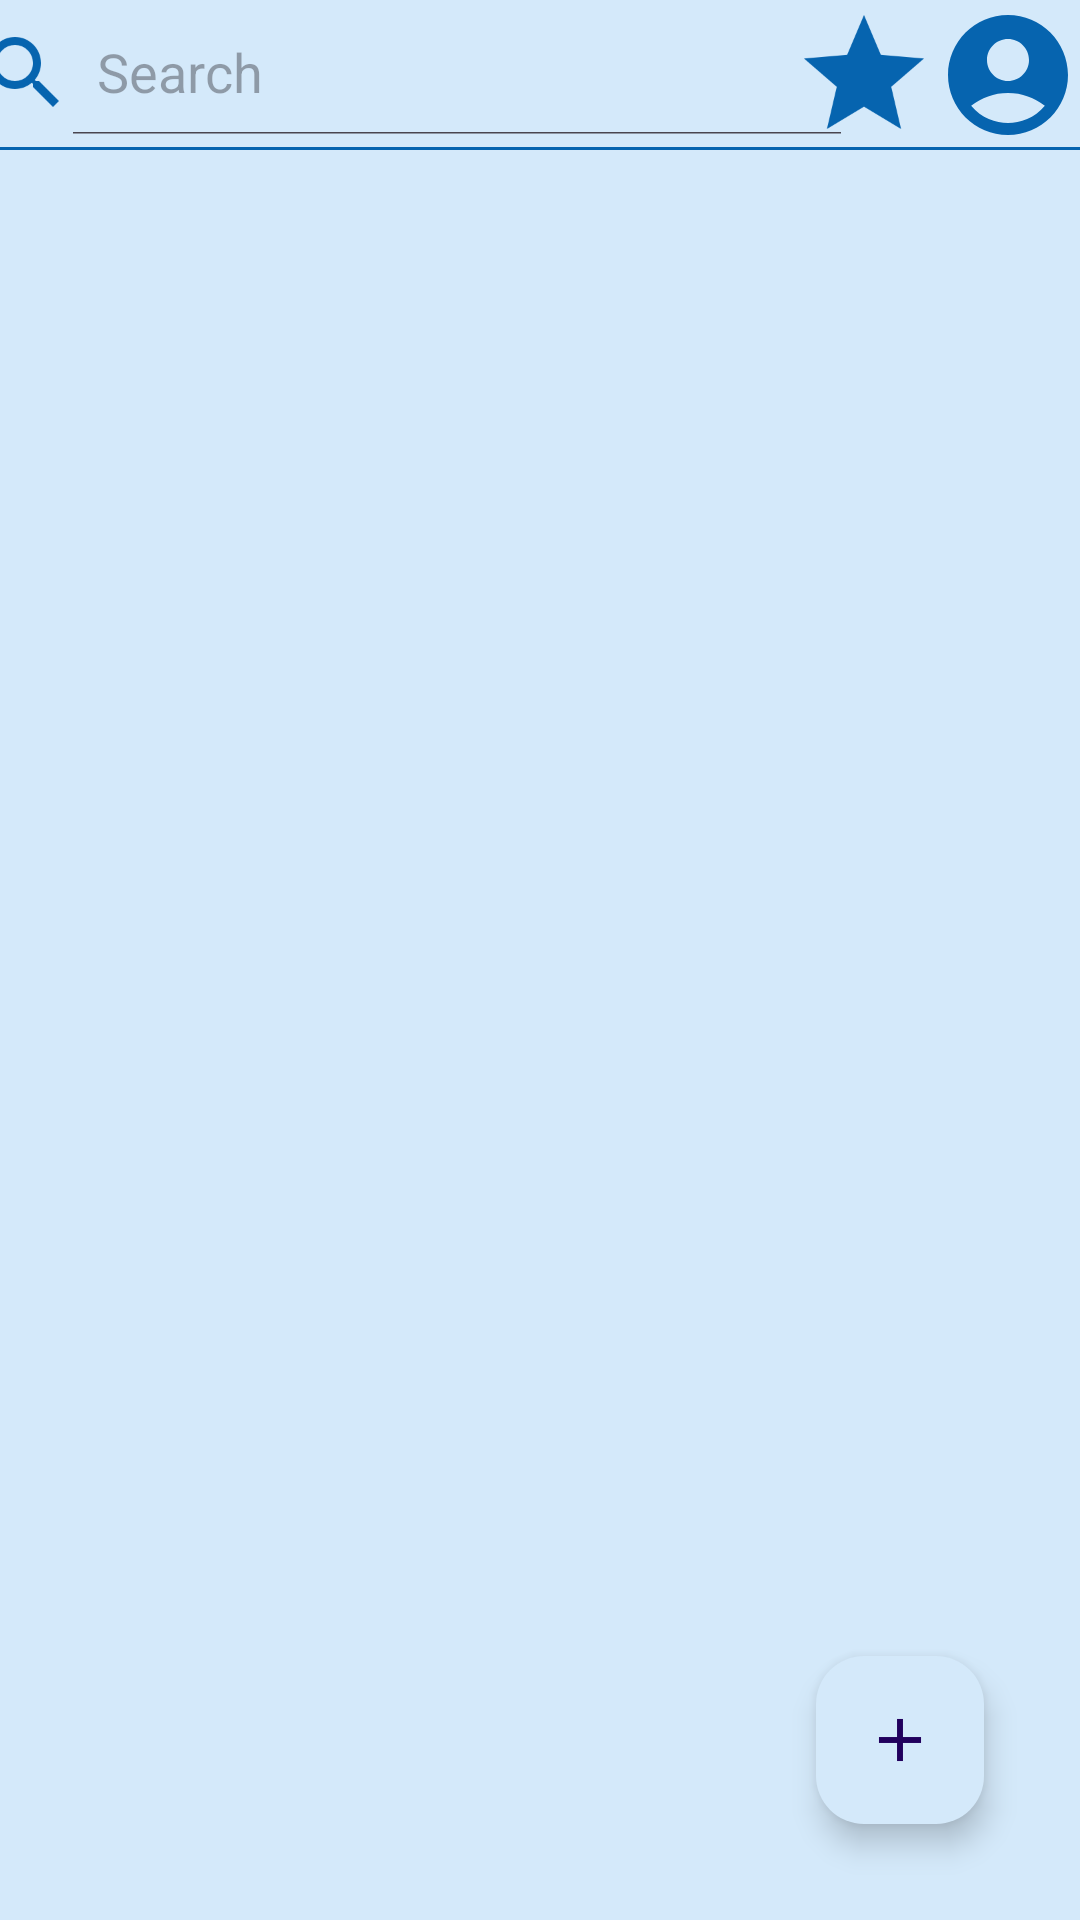

Icons on this 1080w x 1920h Android screen, each with the point to tap as [x,y]:
account circle: [1008,75]
add: [902,1771]
star: [864,72]
